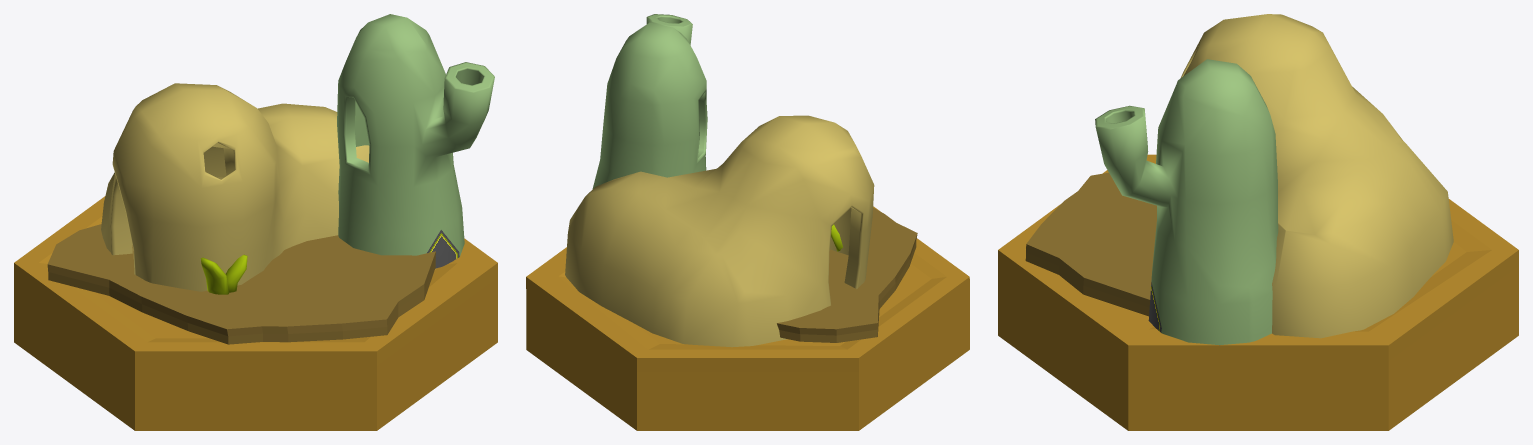
File: House_03.fbx
The picture shows the model from 3 angles, left to right: view 1: azimuth 30°, elevation 25°; view 2: azimuth 150°, elevation 25°; view 3: azimuth 270°, elevation 25°; orthographic projection. The views are drawn at different scales.
Parts seen in each view (by area): view 1: Cylinder.033; view 2: Cylinder.033; view 3: Cylinder.033.
Part boxes in pixels (x1,y1,x2,y2): Cylinder.033: [14, 14, 497, 430]; Cylinder.033: [526, 14, 969, 430]; Cylinder.033: [998, 14, 1518, 430].
Size of the model in its own units: 173 by 141 by 200.
1 material, 1 textured.
